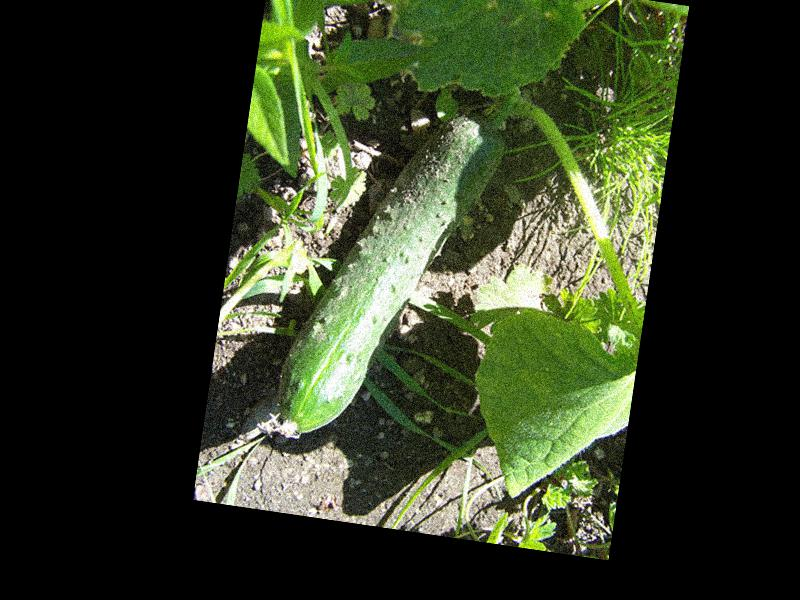Cucumber: (271, 89, 509, 461)
